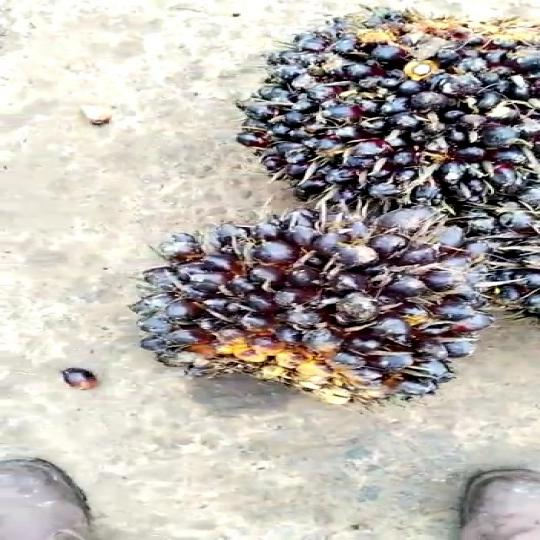mentah: (130, 189, 461, 426), (222, 0, 540, 201)
